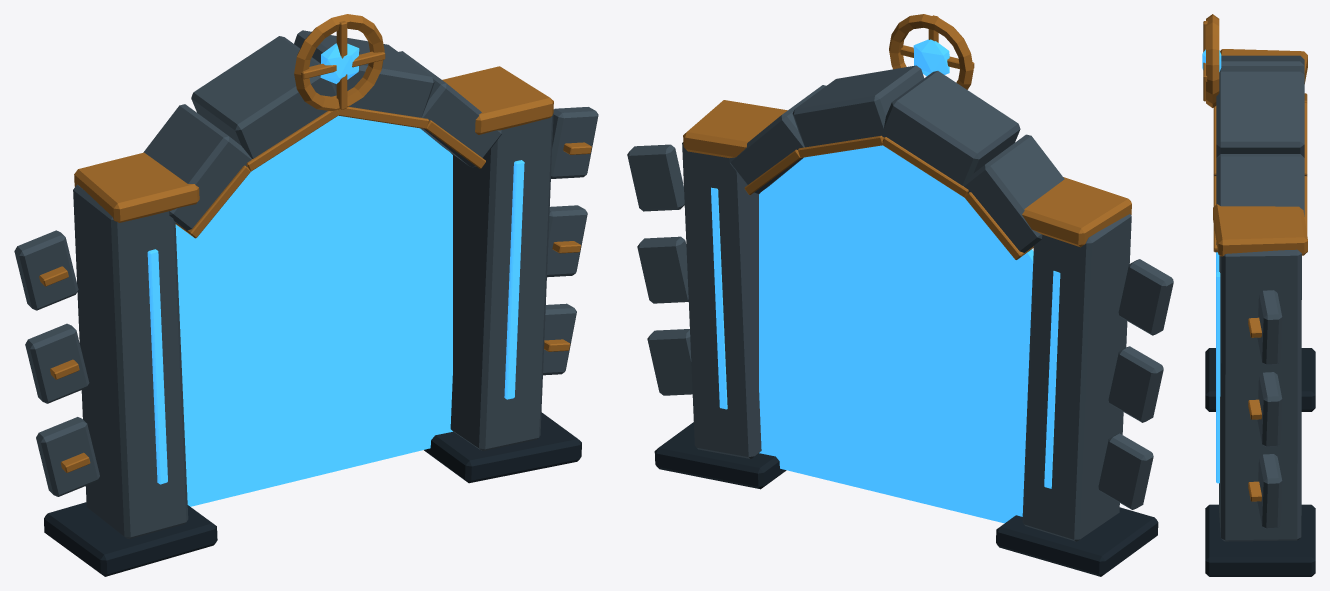
File: portal_saved_world_LOD0.glb
3 views of the same model, side by side, from view 1: azimuth 30°, elevation 25°; view 2: azimuth 150°, elevation 25°; view 3: azimuth 270°, elevation 25° (orthographic). The views are drawn at different scales.
Parts seen in each view (by area): view 1: portal_saved_world_LOD0; view 2: portal_saved_world_LOD0; view 3: portal_saved_world_LOD0.
Part boxes in pixels (x1,y1,x2,y2): portal_saved_world_LOD0: [14, 14, 598, 576]; portal_saved_world_LOD0: [627, 14, 1173, 576]; portal_saved_world_LOD0: [1202, 14, 1315, 576].
Size of the model in its own units: 6.45 by 5.34 by 1.21.
